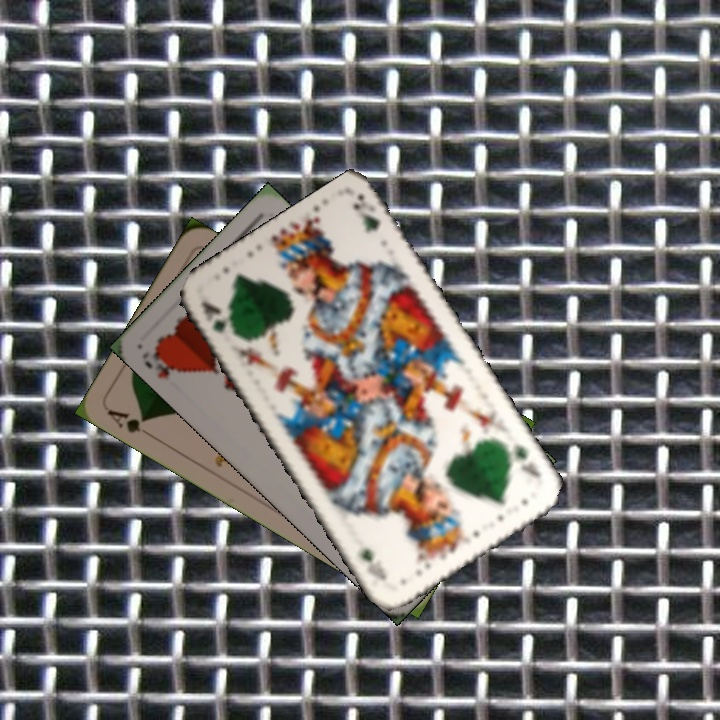GA: (103, 405, 150, 436)
GK: (196, 294, 240, 341), (508, 440, 546, 488)
HO: (138, 343, 183, 382)
